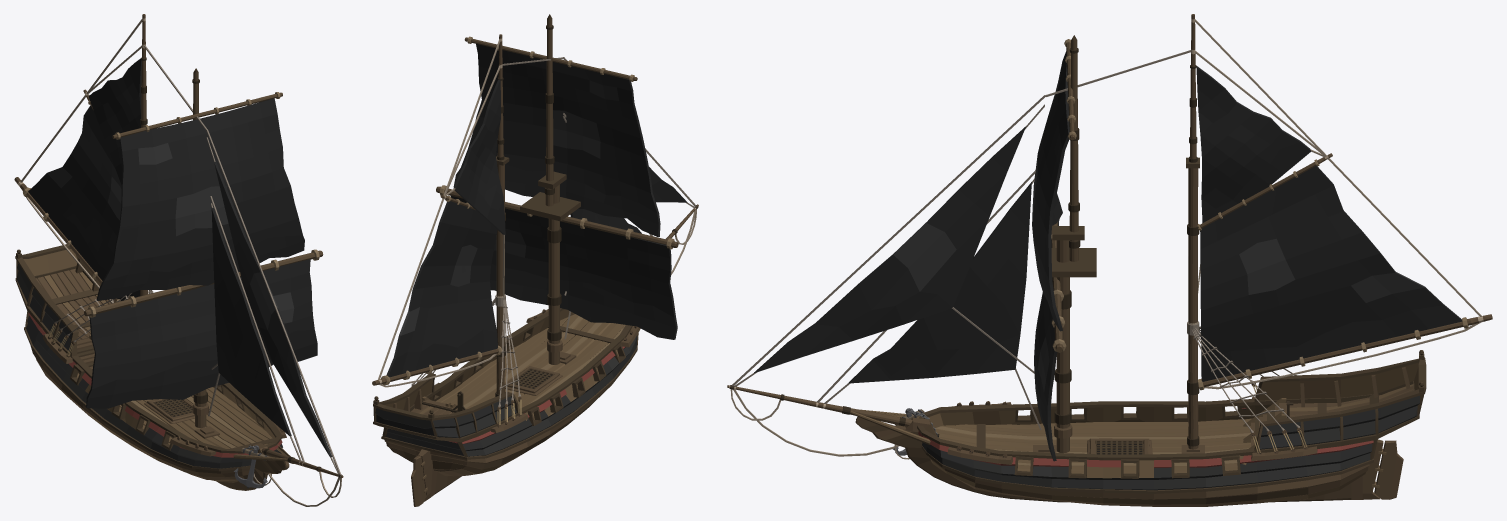
File: PirateShip_model.fbx
3 views of the same model, side by side, from view 1: azimuth 30°, elevation 25°; view 2: azimuth 150°, elevation 25°; view 3: azimuth 270°, elevation 25° (orthographic). The views are drawn at different scales.
Parts seen in each view (by area): view 1: Sails, Pirate_Ship_Model; view 2: Sails, Pirate_Ship_Model; view 3: Sails, Pirate_Ship_Model.
Boxes of the visible parts, <box> form: Sails: <box>28,58,331,457</box>; Pirate_Ship_Model: <box>14,14,343,506</box>; Sails: <box>386,44,687,377</box>; Pirate_Ship_Model: <box>372,14,698,506</box>; Sails: <box>754,51,1462,461</box>; Pirate_Ship_Model: <box>727,14,1492,506</box>.
Bounding box in the file's own units: 15.3 × 25.42 × 36.19.
